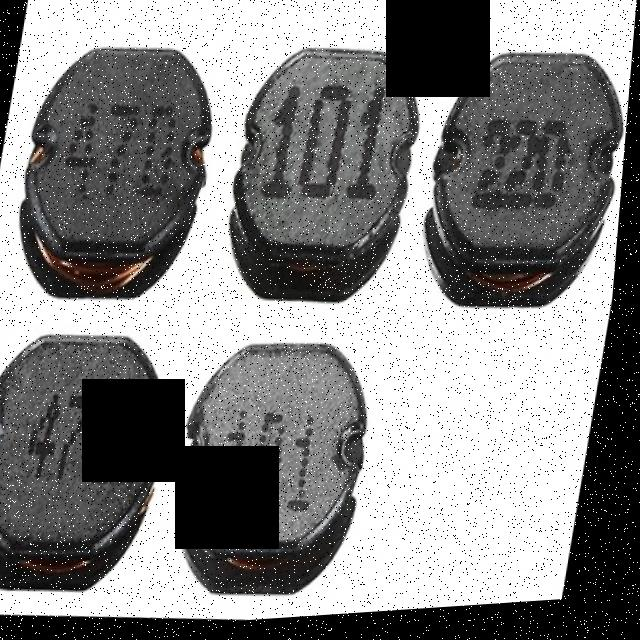inductor F1: (4, 27, 233, 312), (412, 34, 636, 324), (159, 324, 392, 595), (219, 27, 435, 313), (0, 324, 188, 597)
